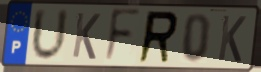0: (181, 11, 213, 64)
F: (102, 7, 142, 67)
K: (70, 11, 102, 62), (216, 14, 248, 65)
R: (136, 9, 181, 65)
U: (29, 7, 70, 64)
